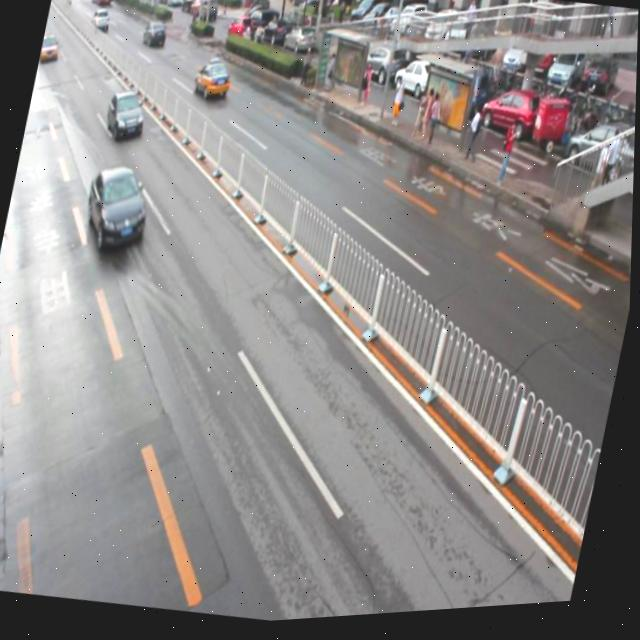car: (79, 159, 158, 258), (102, 87, 151, 147), (191, 59, 233, 106)
